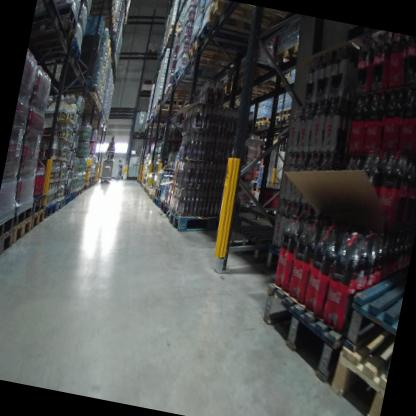pallet: (247, 274, 357, 391), (333, 252, 407, 380), (328, 326, 395, 416), (201, 0, 286, 42), (27, 26, 88, 77), (196, 16, 267, 59), (165, 199, 231, 243), (228, 60, 291, 106), (184, 38, 253, 74), (29, 12, 80, 59), (33, 0, 84, 33), (9, 210, 34, 254), (56, 70, 94, 97), (16, 201, 46, 235), (0, 222, 15, 272), (153, 98, 182, 117), (42, 198, 58, 221), (85, 0, 116, 11), (48, 195, 65, 215), (254, 116, 272, 133), (280, 109, 296, 126), (152, 182, 166, 199), (269, 112, 283, 127), (150, 195, 164, 209), (157, 196, 167, 215), (162, 203, 171, 223), (161, 202, 167, 219)
pallet_truck: (95, 149, 120, 188)
